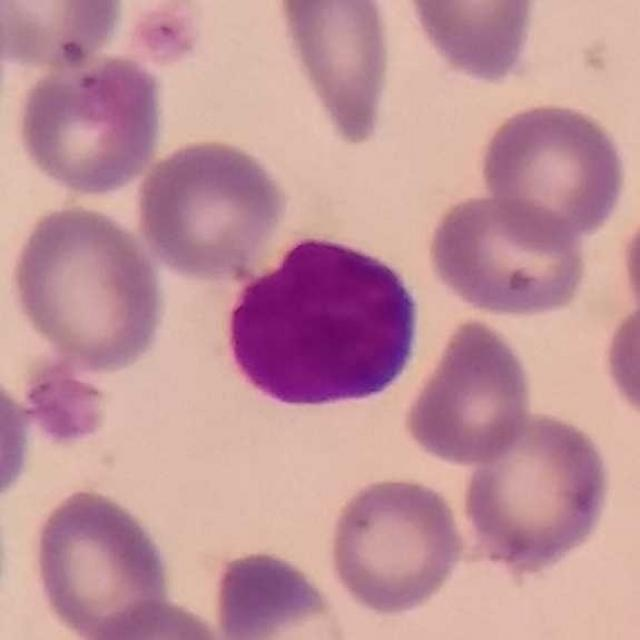Lymphocyte: (218, 193, 426, 413)
RBC: (4, 199, 170, 375), (456, 405, 617, 578), (131, 132, 292, 283), (10, 48, 169, 200), (27, 484, 177, 640), (475, 98, 630, 248), (422, 192, 593, 322), (398, 314, 538, 471), (322, 472, 468, 619), (268, 0, 397, 151), (208, 545, 354, 640), (399, 0, 542, 88), (61, 0, 213, 79), (0, 0, 128, 72), (82, 595, 237, 640), (599, 289, 640, 432), (0, 361, 37, 514), (619, 200, 640, 340), (0, 476, 14, 635)
